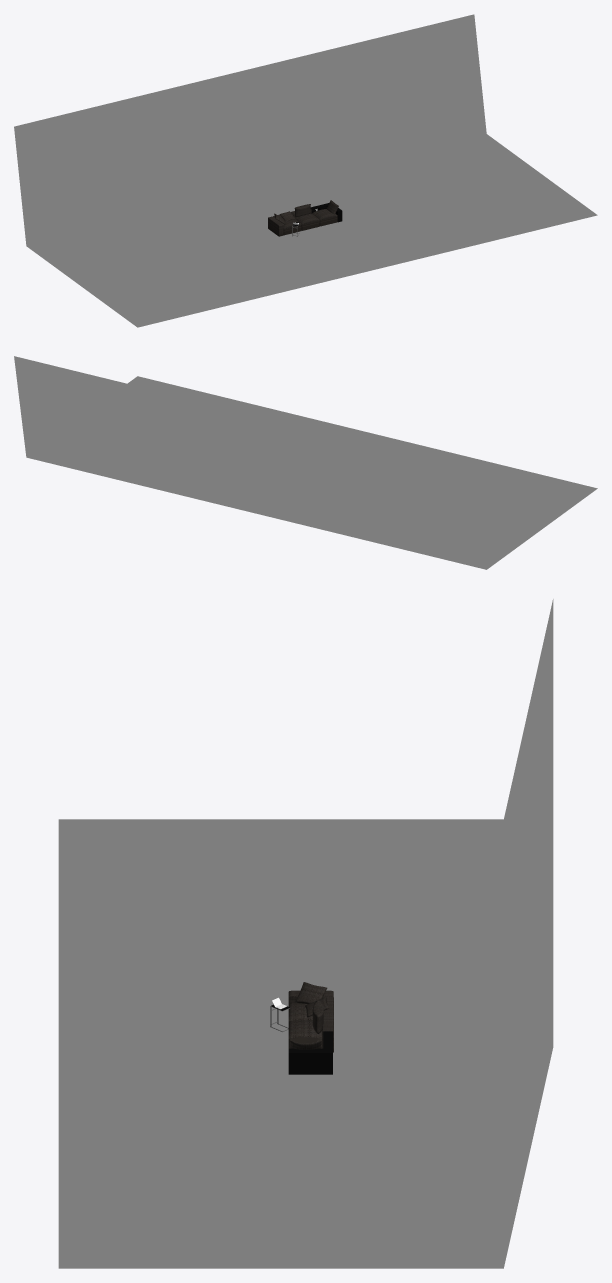
Rendered from sofa.obj.
3 renders of one model, top to bottom at view 1: azimuth 30°, elevation 25°; view 2: azimuth 150°, elevation 25°; view 3: azimuth 270°, elevation 25°, orthographic. The views are drawn at different scales.
Parts seen in each view (by area): view 1: Plane1; view 2: Plane1; view 3: Plane1, Box_Detached3.
Boxes of the visible parts, x1,y1,x2,y2 form: Plane1: [14, 14, 597, 327]; Plane1: [14, 356, 597, 569]; Plane1: [58, 599, 553, 1268]; Box_Detached3: [288, 1048, 332, 1074].
Size of the model in its own units: 86 by 19.74 by 40.
Materials: 7 (2 with a texture image).
